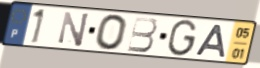1: (30, 8, 47, 45)
A: (193, 23, 227, 59)
B: (126, 16, 159, 54)
G: (166, 19, 200, 58)
N: (57, 10, 91, 49)
O: (94, 13, 129, 52)
